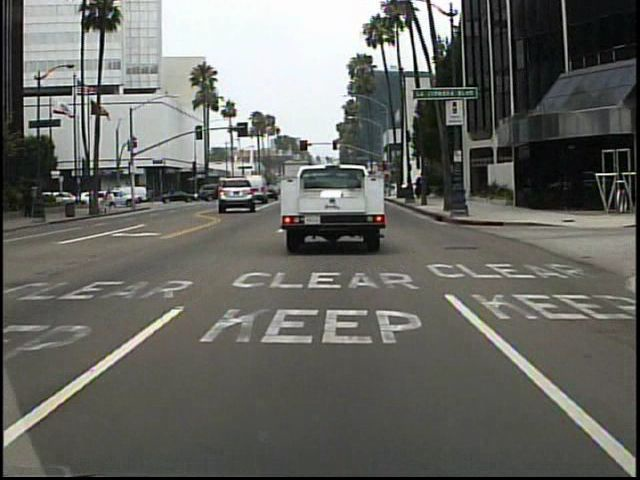person: (107, 188, 121, 216)
